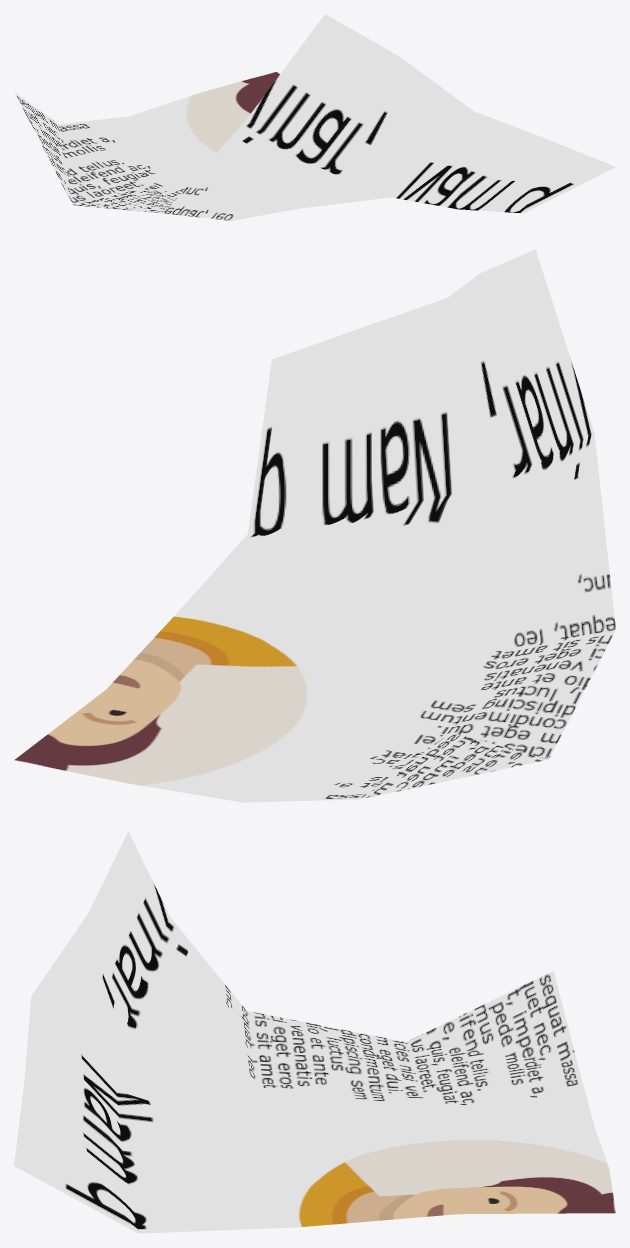
The picture shows the model from 3 angles, top to bottom: view 1: azimuth 30°, elevation 25°; view 2: azimuth 150°, elevation 25°; view 3: azimuth 270°, elevation 25°; orthographic projection. The views are drawn at different scales.
Parts seen in each view (by area): view 1: Plane.024; view 2: Plane.024; view 3: Plane.024.
Boxes of the visible parts, left/top/right/bottom form: Plane.024: left=14, top=14, right=615, bottom=220; Plane.024: left=14, top=249, right=615, bottom=802; Plane.024: left=14, top=831, right=615, bottom=1233.
Size of the model in its own units: 0.6797 by 0.4461 by 0.833.
1 material, 1 textured.
